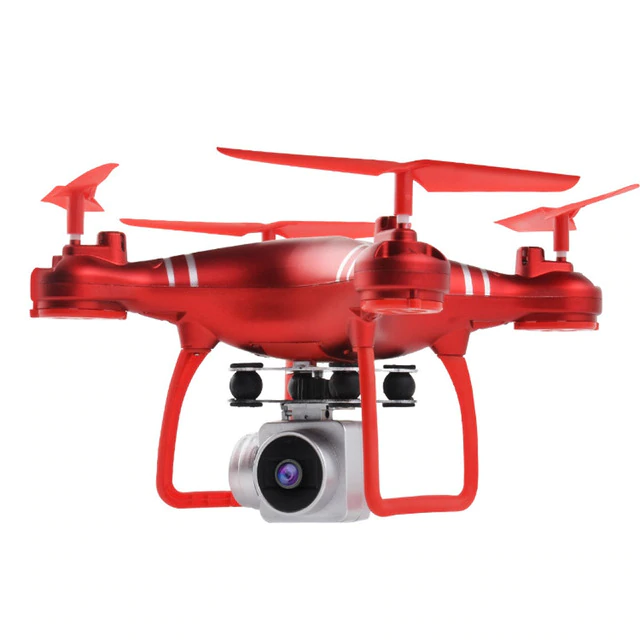drone: (17, 140, 640, 540)
